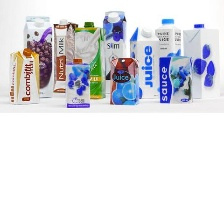carton: (183, 22, 221, 101), (22, 10, 54, 99), (73, 19, 107, 99), (129, 23, 161, 99), (51, 16, 79, 95), (6, 48, 41, 106), (156, 52, 195, 103), (102, 8, 128, 80), (109, 55, 140, 108), (64, 57, 91, 111), (153, 14, 182, 59)
